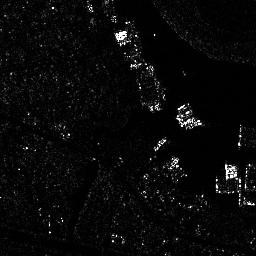ship: (151, 136, 169, 151)
